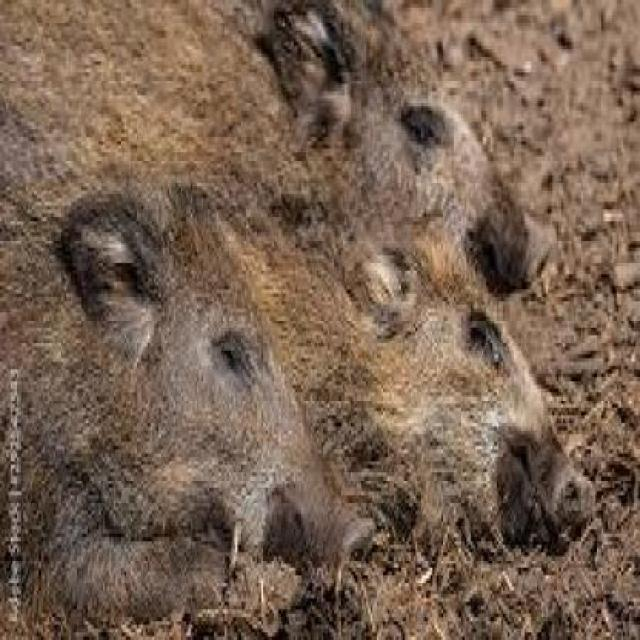wildboar: (0, 0, 597, 640), (0, 158, 377, 638), (162, 0, 560, 334)
